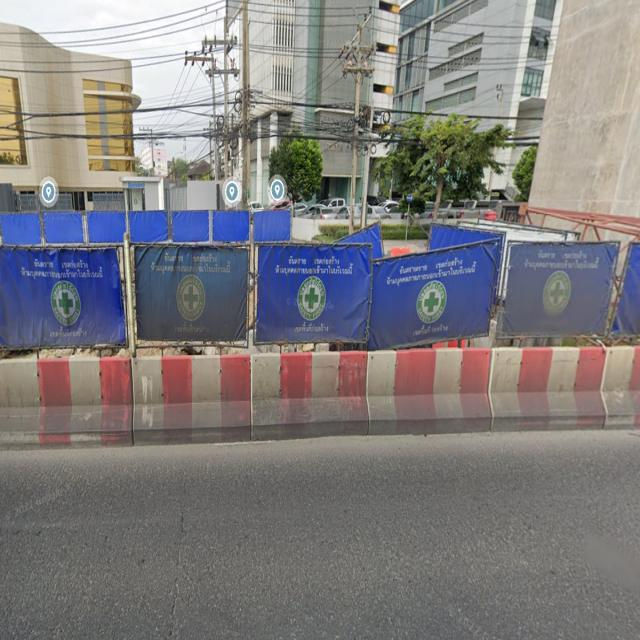fallen_object: (100, 340, 269, 453), (230, 350, 392, 448), (359, 329, 498, 443), (0, 346, 141, 456), (490, 336, 640, 438)
